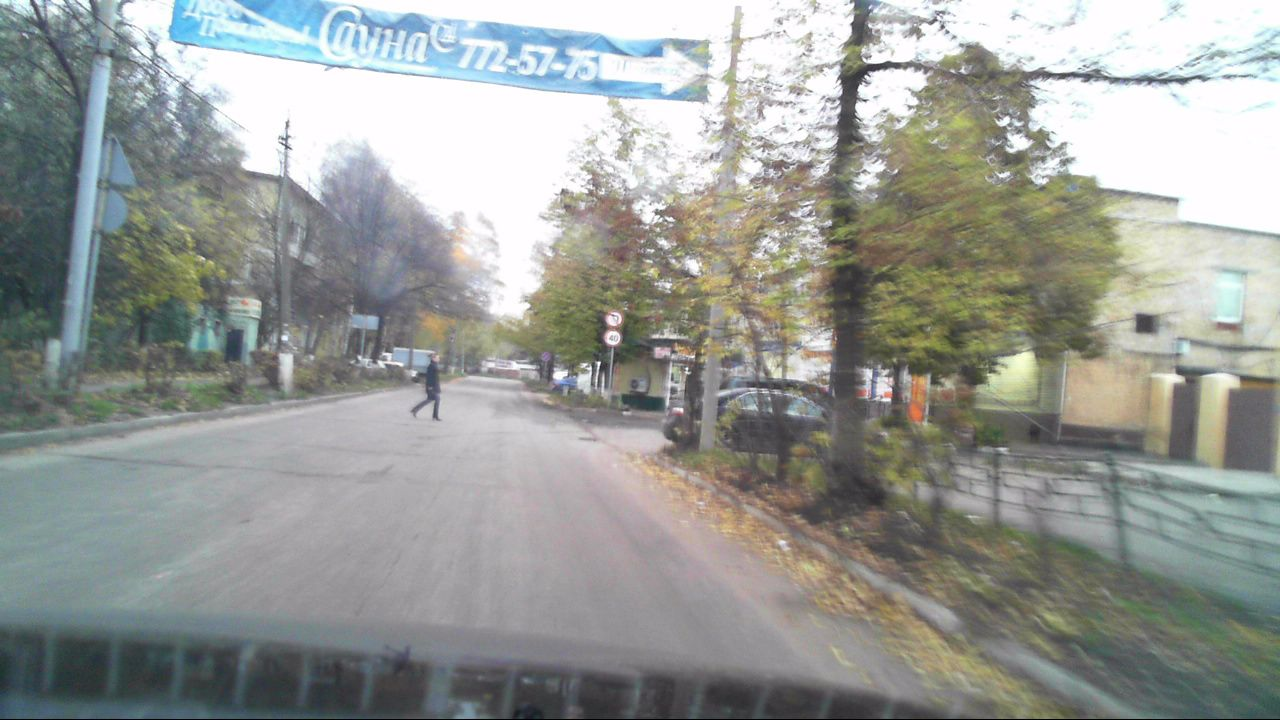speed_warning_40: (604, 329, 621, 345)
